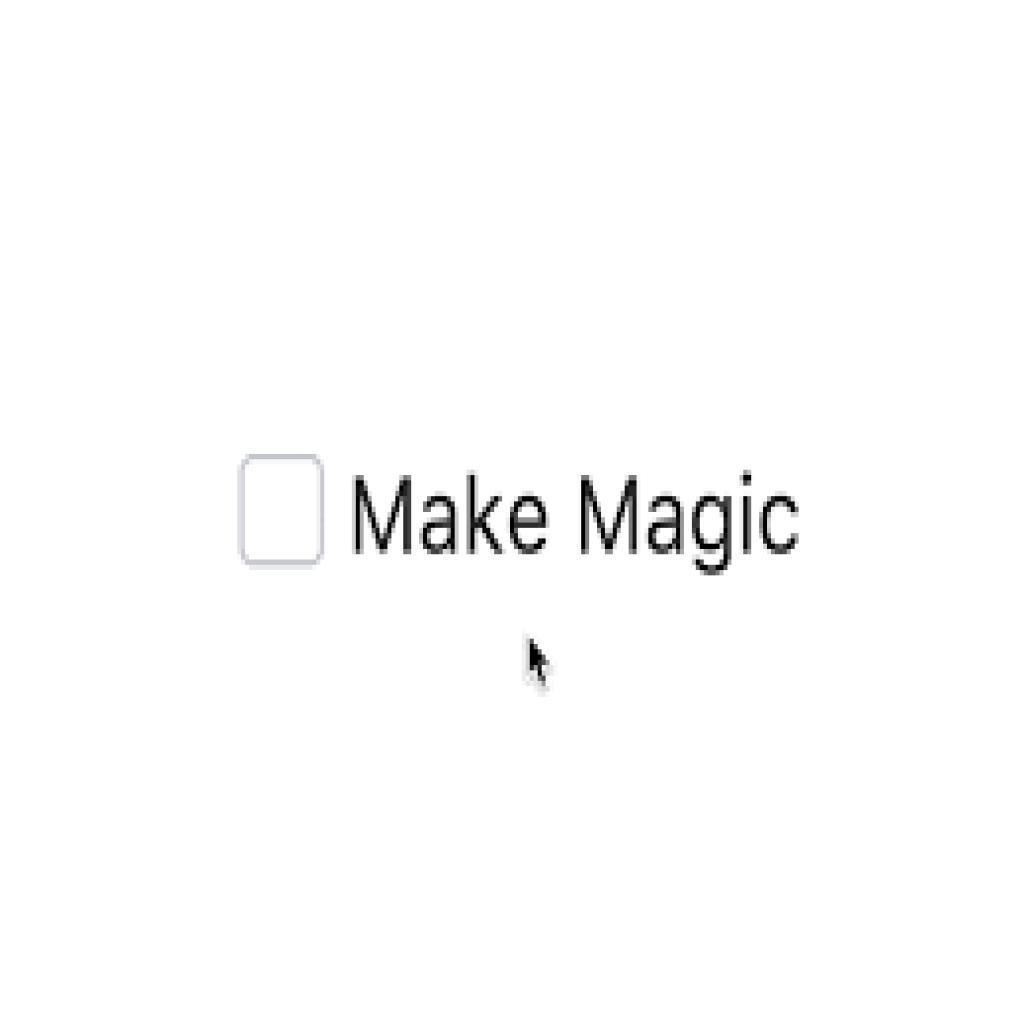checkbox: (243, 457, 326, 562)
label: (346, 469, 808, 575)
